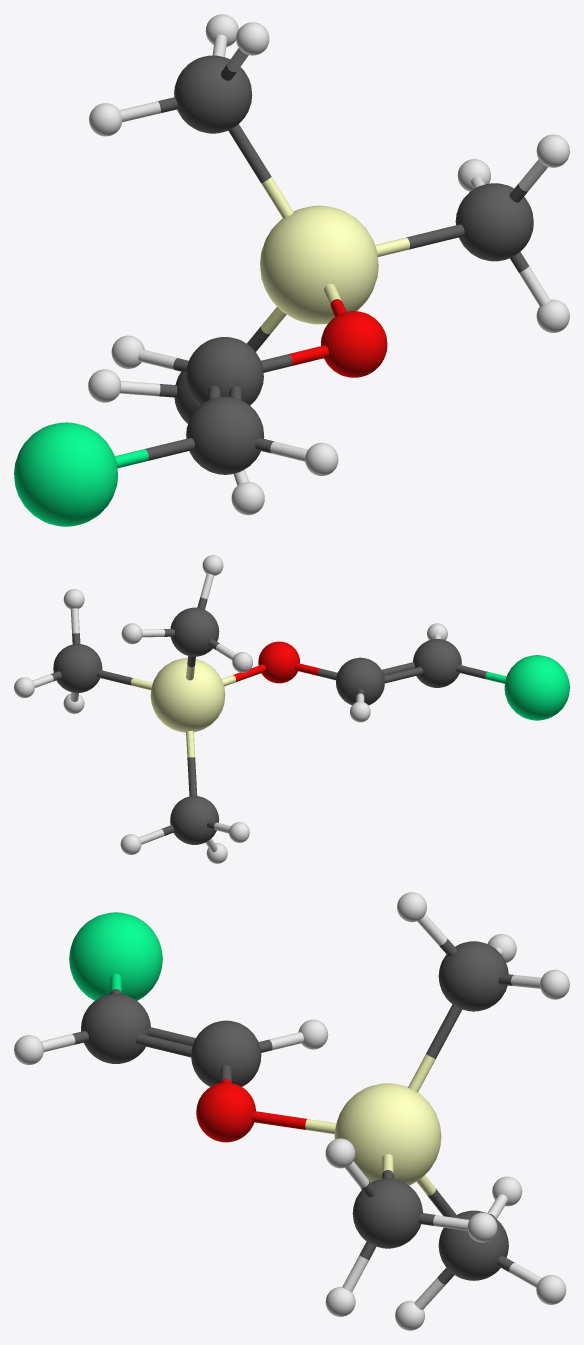
File: E-2-chlorovinyloxytrimethylsilane.fbx
The picture shows the model from 3 angles, top to bottom: view 1: azimuth 30°, elevation 25°; view 2: azimuth 150°, elevation 25°; view 3: azimuth 270°, elevation 25°; orthographic projection. The views are drawn at different scales.
Parts seen in each view (by area): view 1: Si06, Cl19, C01, C15, C11, C03, O05, Si06-C11, Si06-C15, C01-Cl19, H12, H02 (+15 smaller); view 2: Si06, Cl19, C11, C15, C07, C01, C03, O05, Si06-C07, C01=C03.001, Si06-C15, C01-Cl19; view 3: Si06, Cl19, C11, C15, C01, C03, C07, O05, Si06-C11, C01=C03.001, O05-Si06, H18 (+16 smaller).
Boxes of the visible parts, box(x1,y1,x2,y2) form: Si06: box(260, 205, 378, 324); Cl19: box(14, 422, 117, 526); C01: box(186, 396, 264, 474); C15: box(455, 183, 533, 261); C11: box(174, 55, 252, 133); C03: box(186, 337, 263, 405); O05: box(321, 311, 387, 377); Si06-C11: box(228, 124, 293, 218); Si06-C15: box(375, 224, 464, 256); C01-Cl19: box(115, 437, 194, 468); H12: box(236, 22, 269, 55); H02: box(305, 442, 338, 475); Si06: box(150, 658, 225, 732); Cl19: box(504, 655, 569, 720); C11: box(170, 607, 219, 656); C15: box(53, 644, 102, 692); C07: box(170, 796, 219, 844); C01: box(413, 639, 461, 687); C03: box(336, 657, 384, 705); O05: box(258, 641, 299, 683); Si06-C07: box(186, 731, 197, 796); C01=C03.001: box(382, 662, 423, 683); Si06-C15: box(96, 669, 152, 690); C01-Cl19: box(456, 665, 506, 683); Si06: box(334, 1083, 441, 1185); Cl19: box(69, 912, 162, 1000); C11: box(438, 941, 508, 1011); C15: box(352, 1178, 422, 1248); C01: box(81, 994, 150, 1063); C03: box(191, 1020, 261, 1086); C07: box(438, 1210, 508, 1280); O05: box(196, 1082, 255, 1142); Si06-C11: box(408, 1004, 461, 1092); C01=C03.001: box(136, 1027, 195, 1057); O05-Si06: box(252, 1111, 336, 1134); H18: box(325, 1138, 355, 1168).
Bounding box in the file's own units: 743 × 516 × 593.
